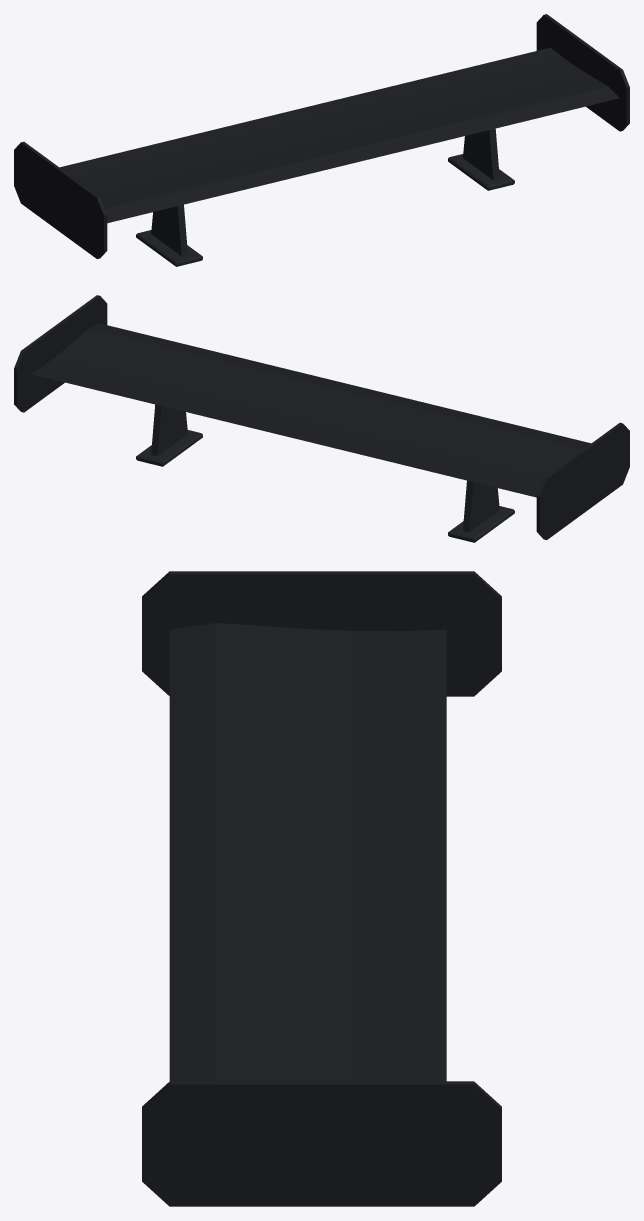
The model's file is vortex_r.glb.
The picture shows the model from 3 angles, top to bottom: view 1: azimuth 30°, elevation 25°; view 2: azimuth 150°, elevation 25°; view 3: azimuth 270°, elevation 25°; orthographic projection. The views are drawn at different scales.
Parts seen in each view (by area): view 1: wing_element, model; view 2: wing_element, model; view 3: wing_element.
Part boxes in pixels (x1,y1,x2,y2): wing_element: (14, 14, 629, 258); model: (136, 128, 514, 266); wing_element: (14, 295, 629, 539); model: (136, 404, 514, 542); wing_element: (142, 571, 501, 1206).
Bounding box in the file's own units: 1.32 × 0.246 × 0.3899.
2 materials, 1 textured.
